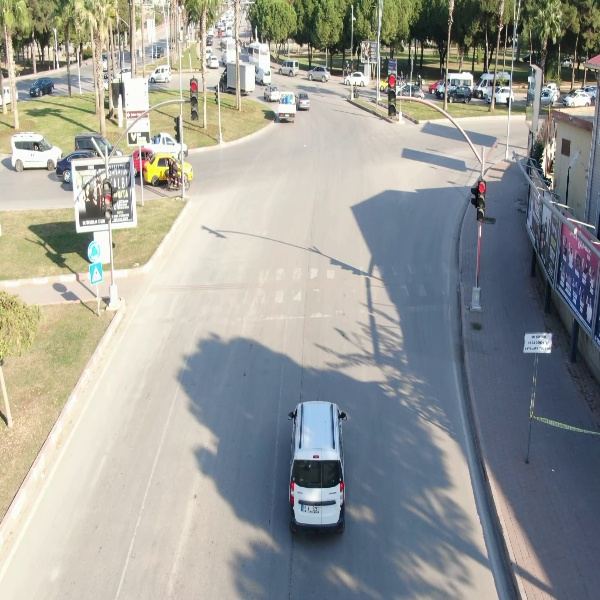car: (286, 400, 347, 537), (9, 131, 64, 176), (28, 75, 55, 99), (445, 84, 474, 106), (148, 63, 174, 87), (563, 88, 593, 108), (487, 85, 515, 106), (305, 65, 332, 84), (277, 58, 301, 78), (341, 71, 369, 88), (297, 92, 313, 114)
